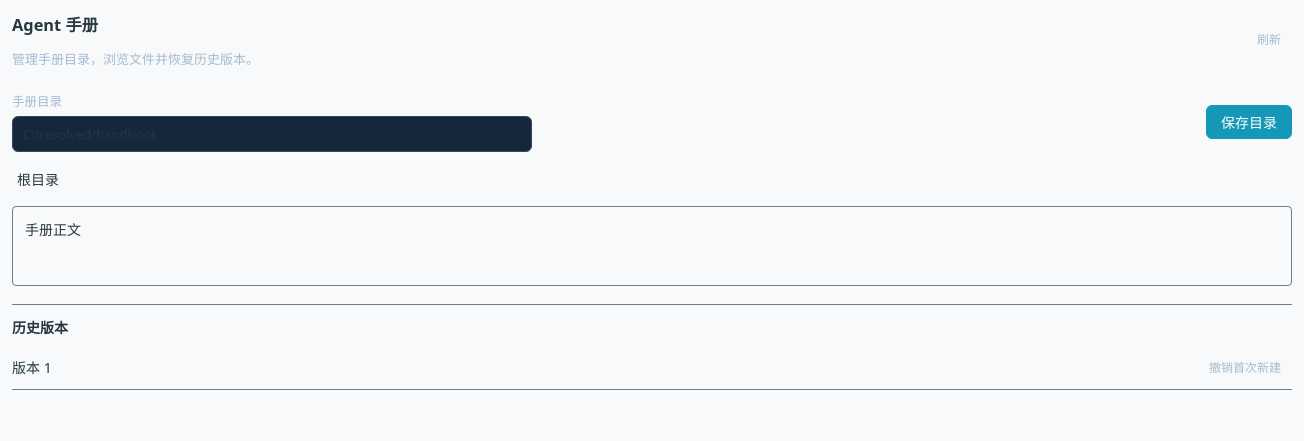
Scenario: AgentHandbookPanel › keeps the page and reports a CAS conflict
This screenshot has width=1304, height=441.
Click the button "撤销首次新建".
click(1245, 367)  # box [1198, 353, 1292, 381]
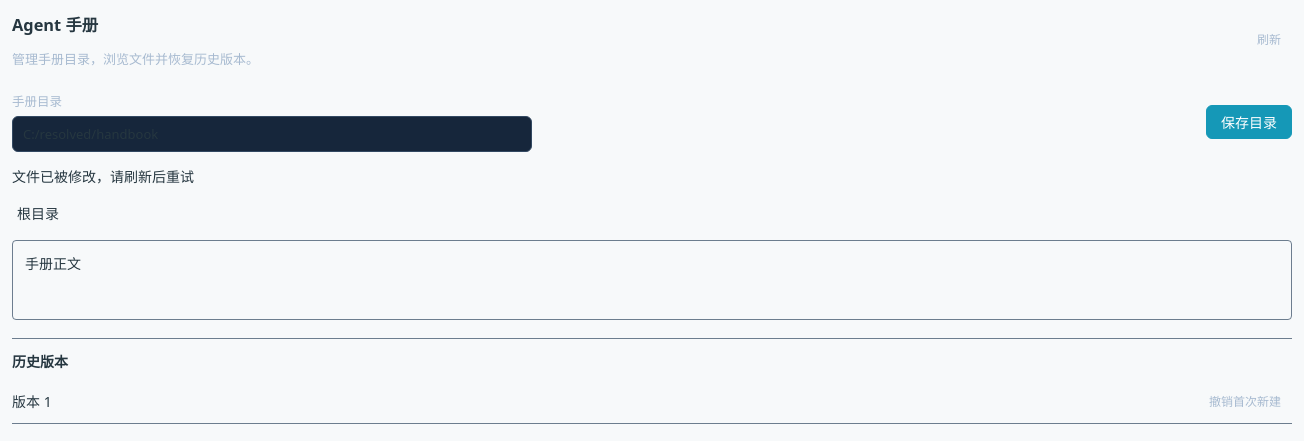
Expected: the text "手册正文" is shown, [12, 240, 1292, 320]
Now the text "文件已被修改" is shown, box [12, 167, 194, 186]
